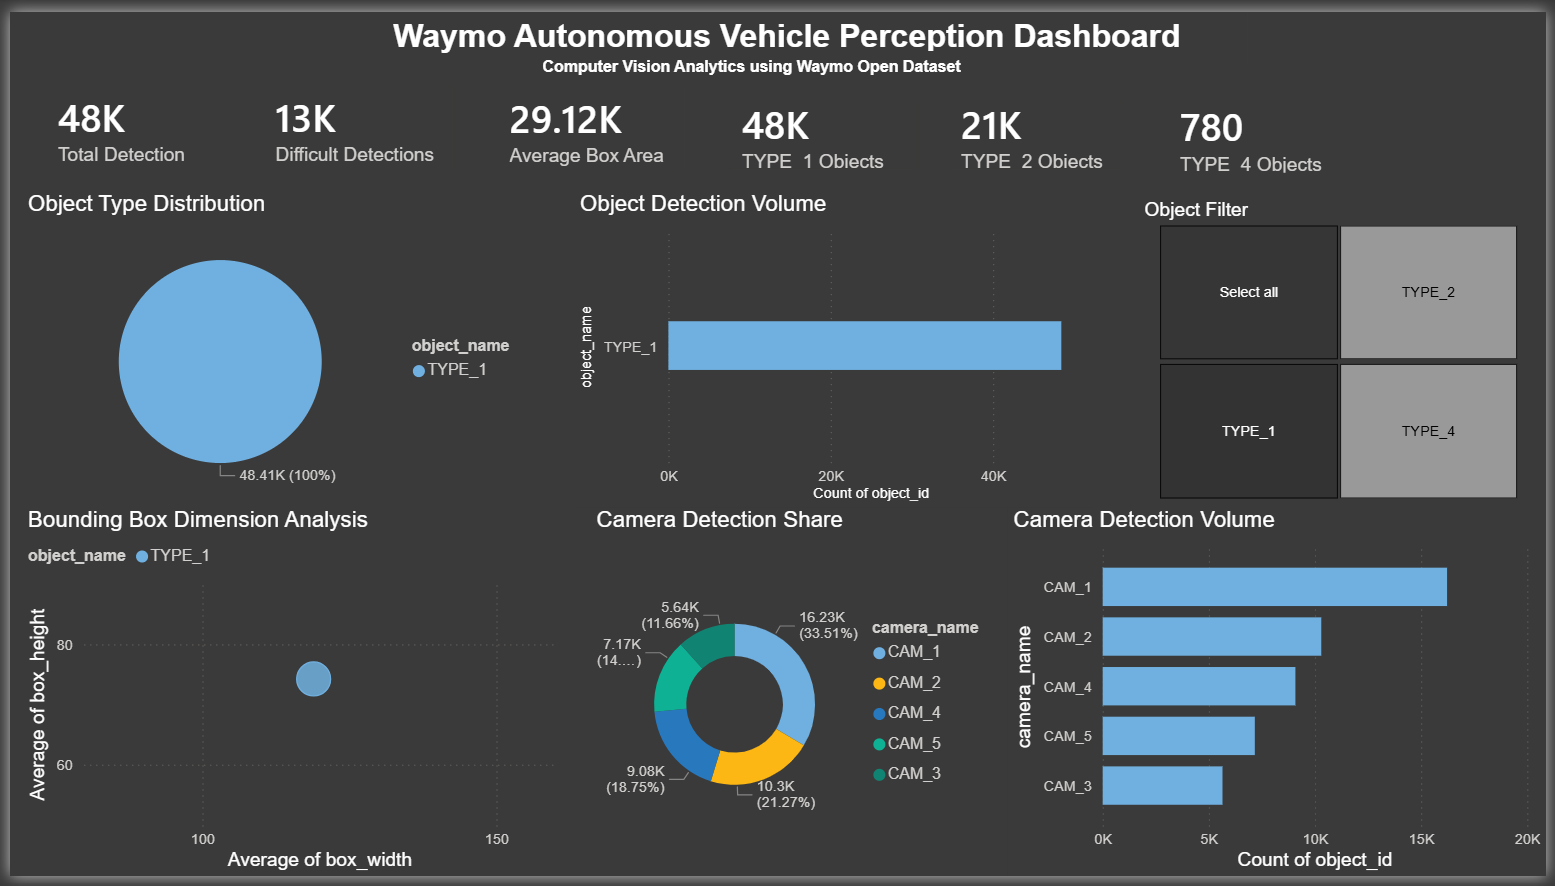

The dashboard page shown, as its layout file describes it:
{"tool":"powerbi","page":{"name":"Page 1","canvas":[1280,720],"ordinal":0},"visuals":[{"type":"cardVisual","fields":{"Data":["waymo_master_dataset.Total Detection"]},"box":[10,42.5,181.2,107.5],"z":0},{"type":"cardVisual","fields":{"Data":["waymo_master_dataset.Difficult Detections"]},"box":[191.2,42.5,195,107.5],"z":1000},{"type":"cardVisual","fields":{"Data":["waymo_master_dataset.Average Box Area"]},"box":[386.2,42.5,193.8,108.8],"z":2000},{"type":"cardVisual","fields":{"Data":["waymo_master_dataset.TYPE_1 Count"]},"box":[580,55,193.8,93.8],"z":3000},{"type":"cardVisual","fields":{"Data":["waymo_master_dataset.TYPE_2 Count"]},"box":[762.5,55,182.5,93.8],"z":4000},{"type":"pieChart","title":"Object Type Distribution","fields":{"Category":["waymo_master_dataset.object_name"],"Y":["CountNonNull(waymo_master_dataset.object_id)"]},"box":[10,148.8,428.8,263.8],"z":5000},{"type":"barChart","title":"Camera Detection Volume","fields":{"Category":["waymo_master_dataset.camera_name"],"Y":["CountNonNull(waymo_master_dataset.object_id)"]},"box":[831.2,412.5,448.8,307.5],"z":6000},{"type":"scatterChart","title":"Bounding Box Dimension Analysis","fields":{"X":["Avg(waymo_master_dataset.box_width)"],"Y":["Avg(waymo_master_dataset.box_height)"],"Series":["waymo_master_dataset.object_name"],"Size":["Avg(waymo_master_dataset.box_area)"]},"box":[10,412.5,460,307.5],"z":7000},{"type":"slicer","fields":{"Values":["waymo_master_dataset.object_name"]},"box":[932.5,150,347.5,262.5],"z":8000},{"type":"cardVisual","fields":{"Data":["waymo_master_dataset.TYPE_4 Count"]},"box":[945,55,181.2,97.5],"z":9000},{"type":"donutChart","title":"Camera Detection Share","fields":{"Y":["CountNonNull(waymo_master_dataset.object_id)"],"Category":["waymo_master_dataset.camera_name"]},"box":[483.8,412.5,347.5,307.5],"z":10000},{"type":"barChart","title":"Object Detection Volume","fields":{"Category":["waymo_master_dataset.object_name"],"Y":["CountNonNull(waymo_master_dataset.object_id)"]},"box":[470,148.8,432.5,263.8],"z":11000},{"type":"textbox","box":[248.8,0,782.5,42.5],"z":12000},{"type":"textbox","box":[438.8,32.5,368.8,25],"z":13000}]}

Visuals, with their boxes in screenshot pixels (x1, y1, x2, y2), scaled from the page's 1280x720 canvas onto the 1555x886 screenshot:
cardVisual - waymo_master_dataset.Total Detection: {"x1": 12, "y1": 52, "x2": 232, "y2": 185}
cardVisual - waymo_master_dataset.Difficult Detections: {"x1": 232, "y1": 52, "x2": 469, "y2": 185}
cardVisual - waymo_master_dataset.Average Box Area: {"x1": 469, "y1": 52, "x2": 705, "y2": 186}
cardVisual - waymo_master_dataset.TYPE_1 Count: {"x1": 705, "y1": 68, "x2": 940, "y2": 183}
cardVisual - waymo_master_dataset.TYPE_2 Count: {"x1": 926, "y1": 68, "x2": 1148, "y2": 183}
"Object Type Distribution" pieChart: {"x1": 12, "y1": 183, "x2": 533, "y2": 508}
"Camera Detection Volume" barChart: {"x1": 1010, "y1": 508, "x2": 1554, "y2": 885}
"Bounding Box Dimension Analysis" scatterChart: {"x1": 12, "y1": 508, "x2": 571, "y2": 885}
slicer - waymo_master_dataset.object_name: {"x1": 1133, "y1": 185, "x2": 1554, "y2": 508}
cardVisual - waymo_master_dataset.TYPE_4 Count: {"x1": 1148, "y1": 68, "x2": 1368, "y2": 188}
"Camera Detection Share" donutChart: {"x1": 588, "y1": 508, "x2": 1010, "y2": 885}
"Object Detection Volume" barChart: {"x1": 571, "y1": 183, "x2": 1096, "y2": 508}
textbox: {"x1": 302, "y1": 0, "x2": 1253, "y2": 52}
textbox: {"x1": 533, "y1": 40, "x2": 981, "y2": 71}
